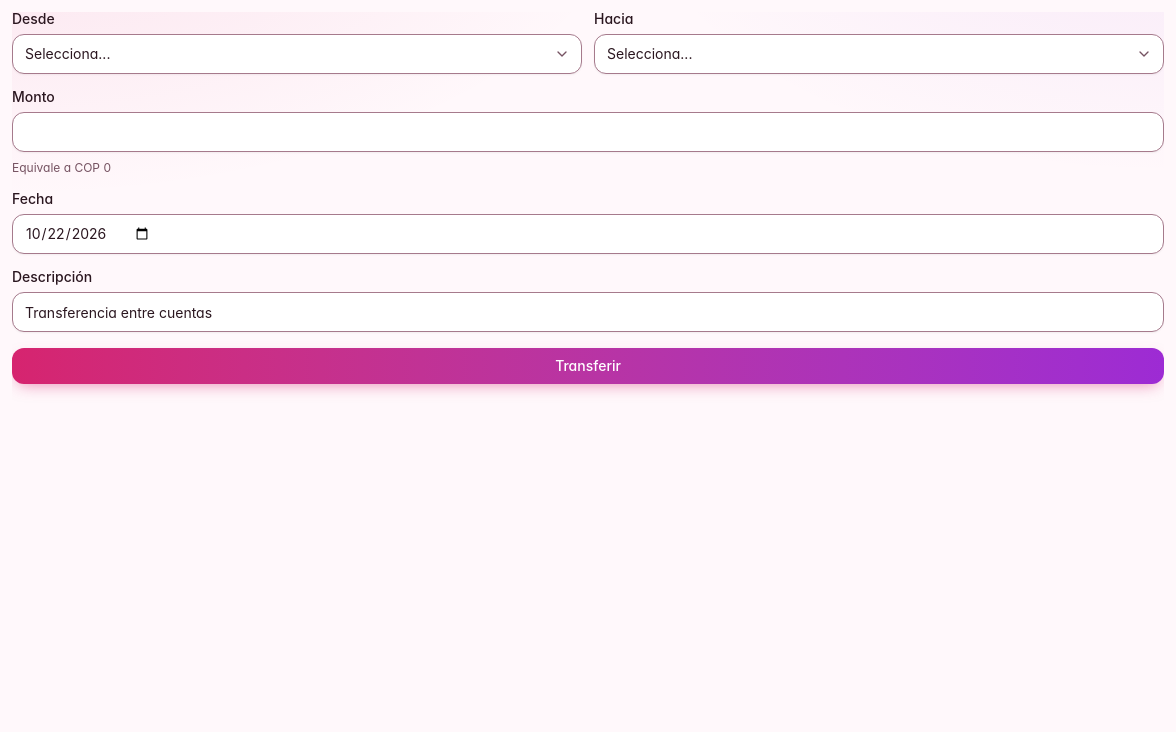
it: TransferForm › monedas distintas › no envía la transferencia sin monto recibido
Select "Efectivo" in the dropdown labelled "Desde": (297, 54) [12,34,582,74]
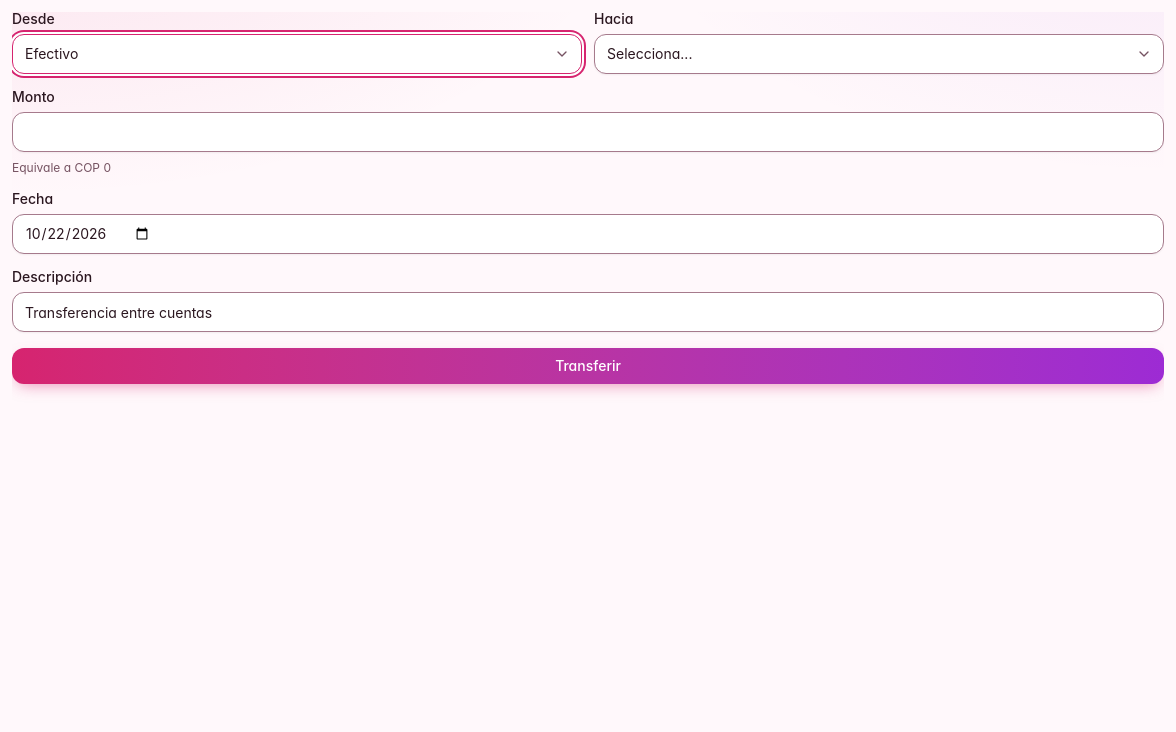
Select "Cuenta USD" in the dropdown labelled "Hacia": (879, 54) [594,34,1164,74]
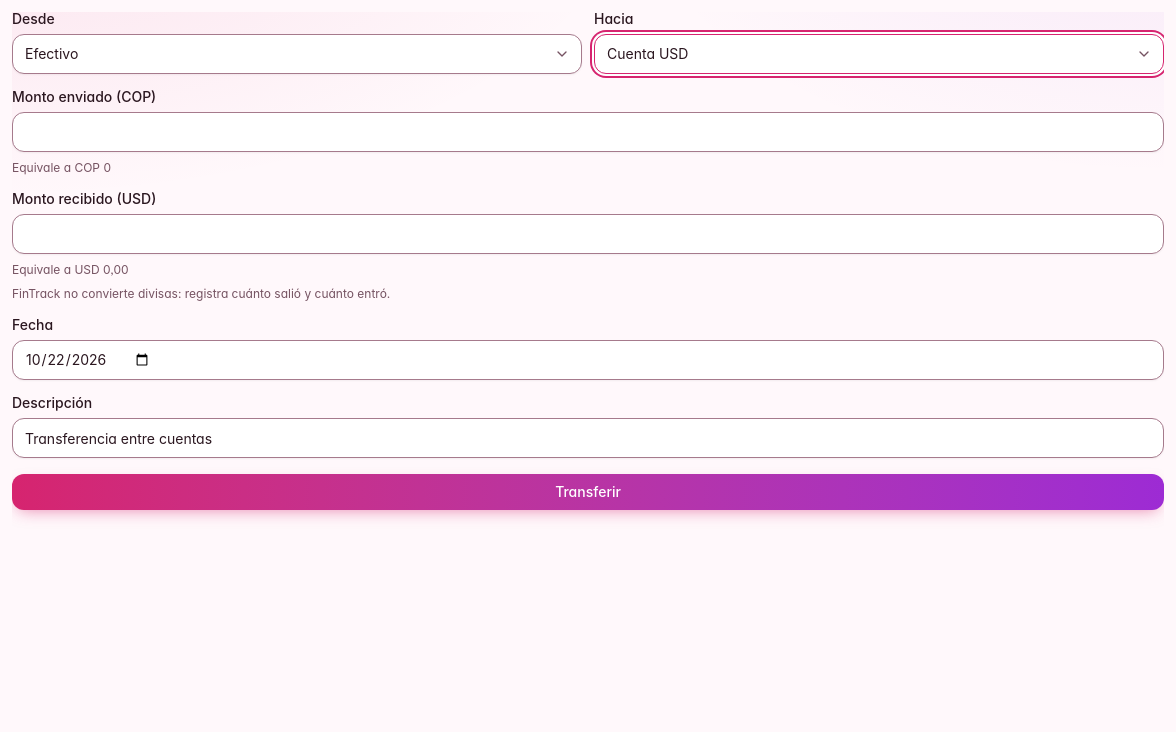
In the field labelled "Monto enviado (COP)": (588, 132) [12,112,1164,152], type "100000"
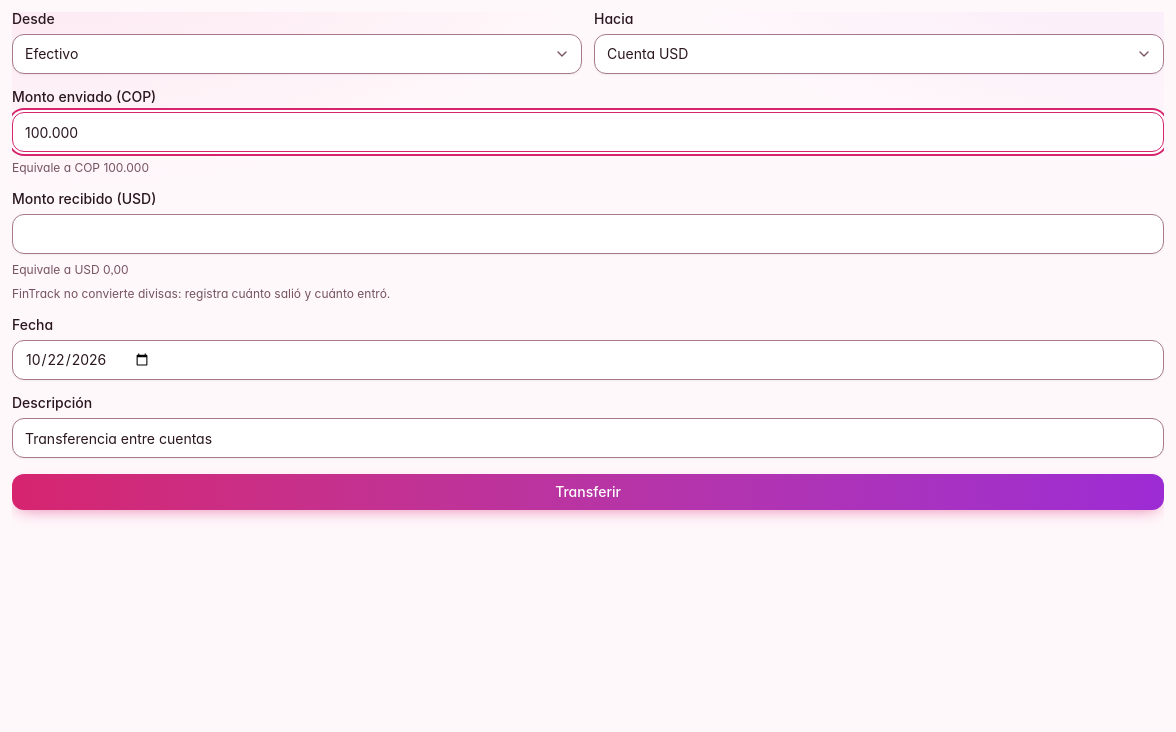
Click the button "Transferir": (588, 492) [12,474,1164,510]
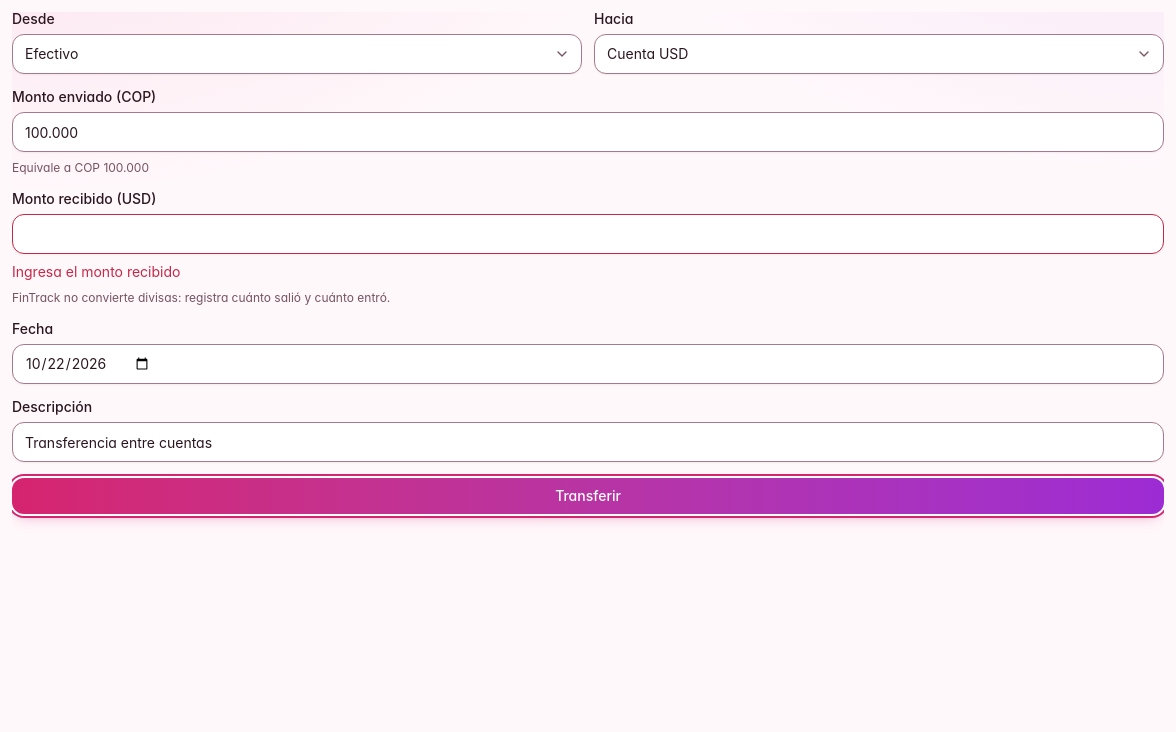
Now the text "Ingresa el monto recibido" is shown, box [12,263,180,280]
